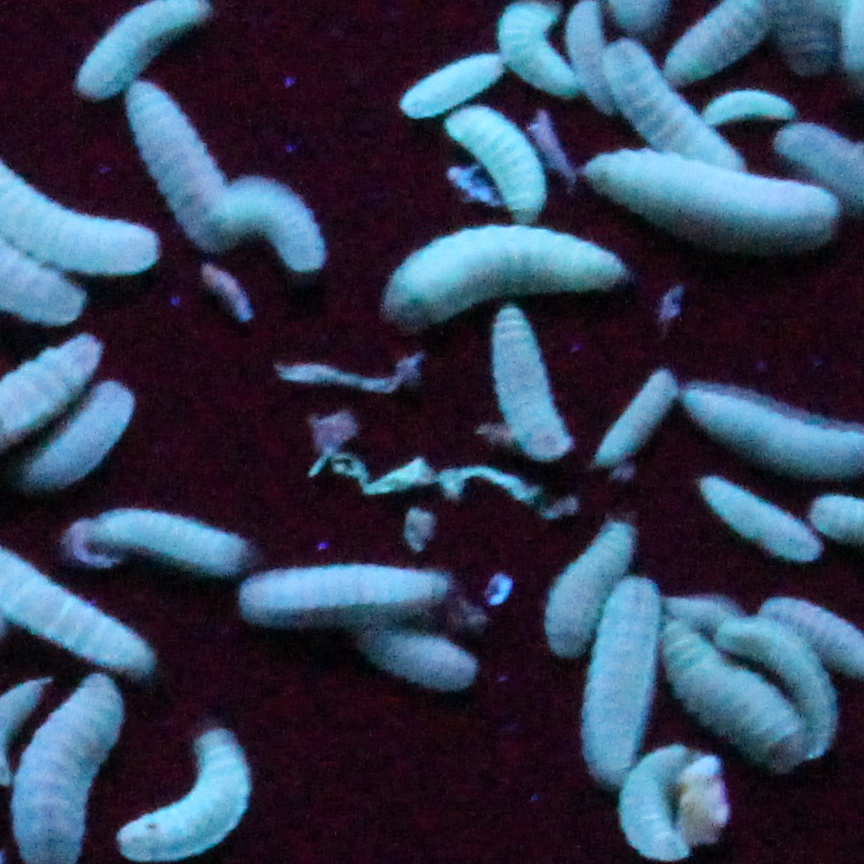larve: (588, 154, 837, 254), (389, 233, 644, 314), (120, 724, 268, 858), (661, 614, 796, 758), (126, 82, 224, 248), (719, 616, 840, 748), (583, 571, 655, 778), (627, 49, 745, 173), (23, 383, 135, 493), (242, 564, 458, 621), (545, 518, 634, 656), (211, 179, 333, 276), (82, 510, 241, 583), (450, 108, 544, 226), (493, 321, 571, 456), (699, 475, 806, 558), (599, 371, 675, 466), (365, 634, 485, 694), (499, 1, 565, 103), (703, 96, 806, 119)
